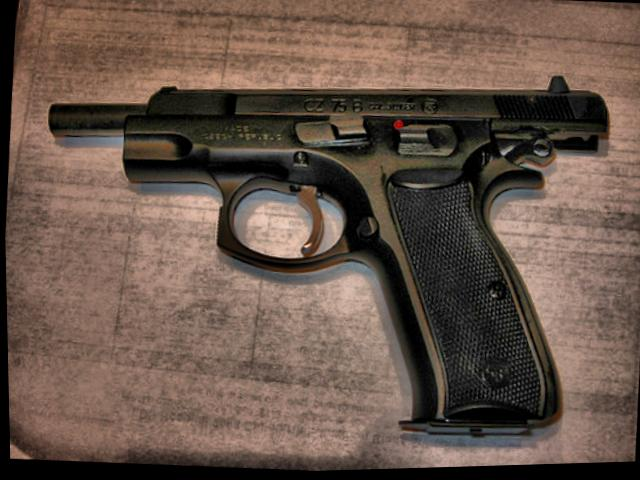pistol: (22, 40, 608, 463)
